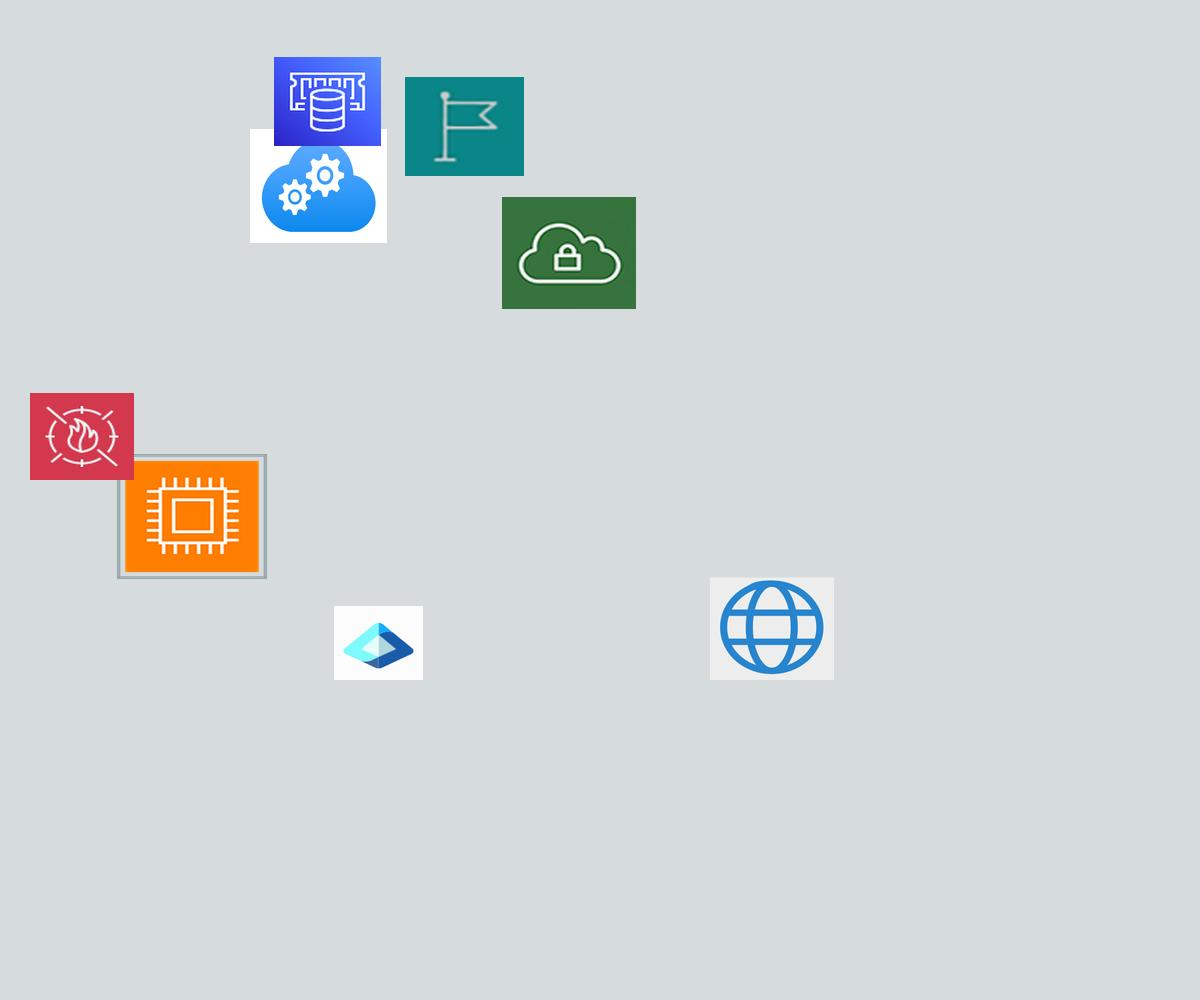AWS-Category_Compute: (117, 454, 267, 579)
AWS-ElastiCache: (274, 57, 381, 146)
AWS-Private_vpc: (502, 197, 636, 309)
AWS-Region: (405, 77, 524, 176)
AWS-WAF: (30, 393, 134, 480)
Azure_cloud_services: (250, 129, 387, 243)
Azure_http: (710, 577, 834, 680)
Azure_microsoft_entra: (334, 606, 423, 680)
